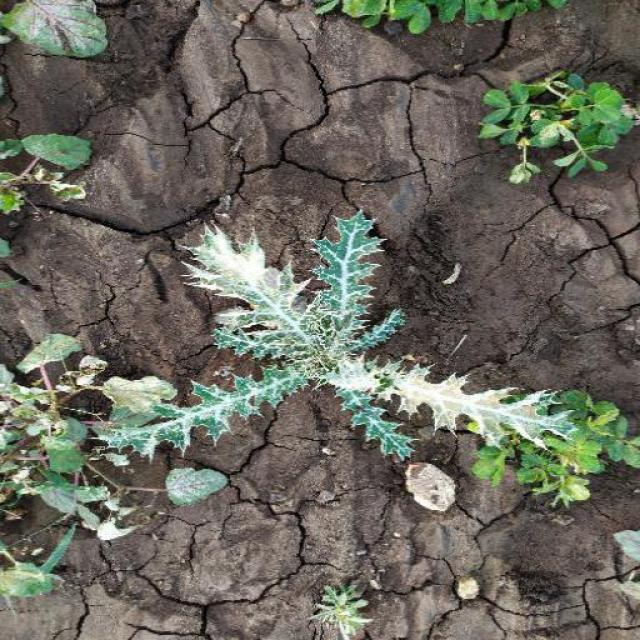weed: (118, 207, 592, 508), (442, 60, 640, 192)
